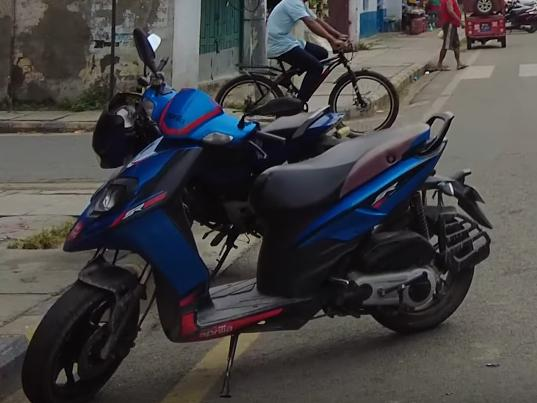scooter: (19, 82, 491, 403)
